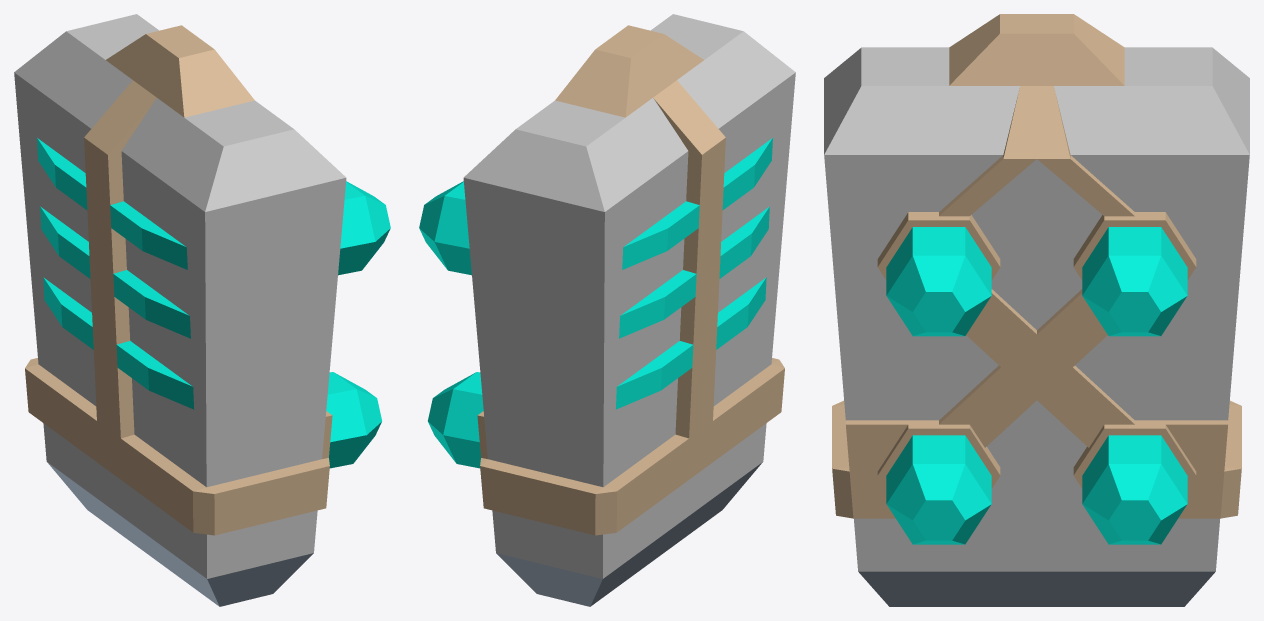
File: TeslaMutant-Torso.fbx
The picture shows the model from 3 angles, left to right: view 1: azimuth 30°, elevation 25°; view 2: azimuth 150°, elevation 25°; view 3: azimuth 270°, elevation 25°; orthographic projection. The views are drawn at different scales.
Visible parts, largest first — view 1: TeslaMutant-Torso; view 2: TeslaMutant-Torso; view 3: TeslaMutant-Torso.
Boxes of the visible parts, box(x1,y1,x2,y2) form: TeslaMutant-Torso: box(14, 14, 390, 606); TeslaMutant-Torso: box(419, 14, 795, 606); TeslaMutant-Torso: box(824, 14, 1249, 606).
Bounding box in the file's own units: 0.3522 × 0.7157 × 0.4856.
